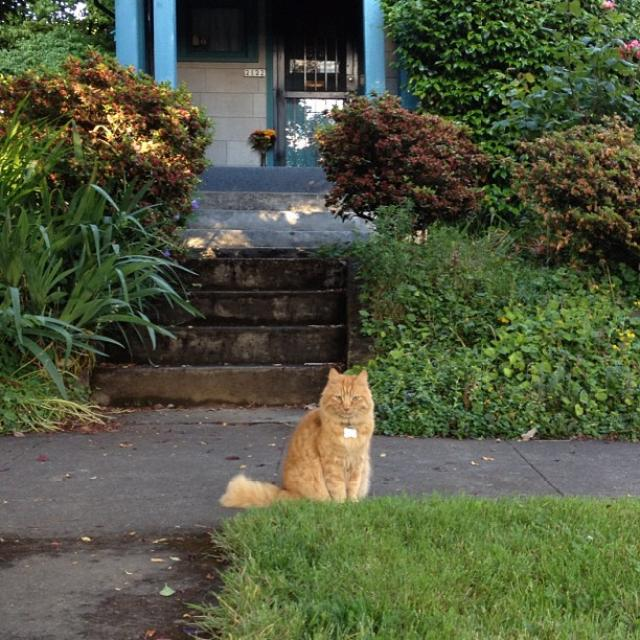cats: (223, 365, 378, 506)
